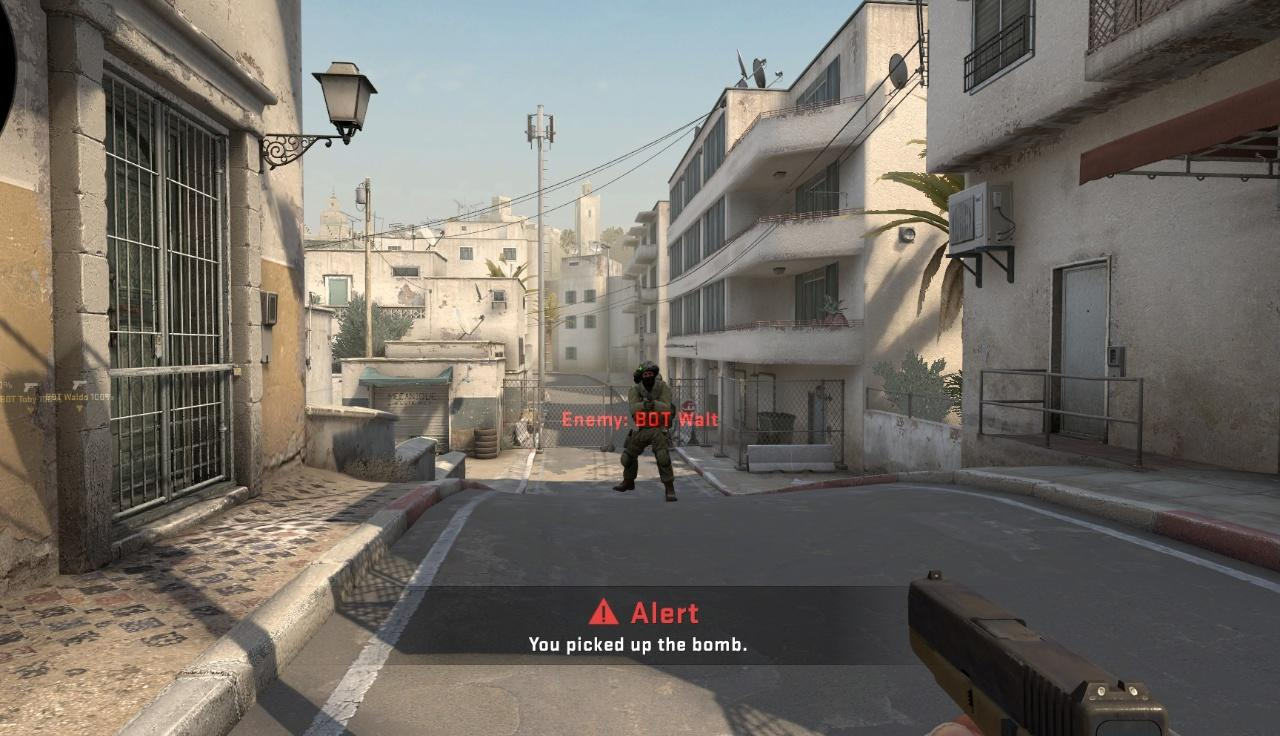ct: (613, 360, 678, 501)
cthead: (640, 362, 656, 386)
pistol: (906, 569, 1214, 736)
